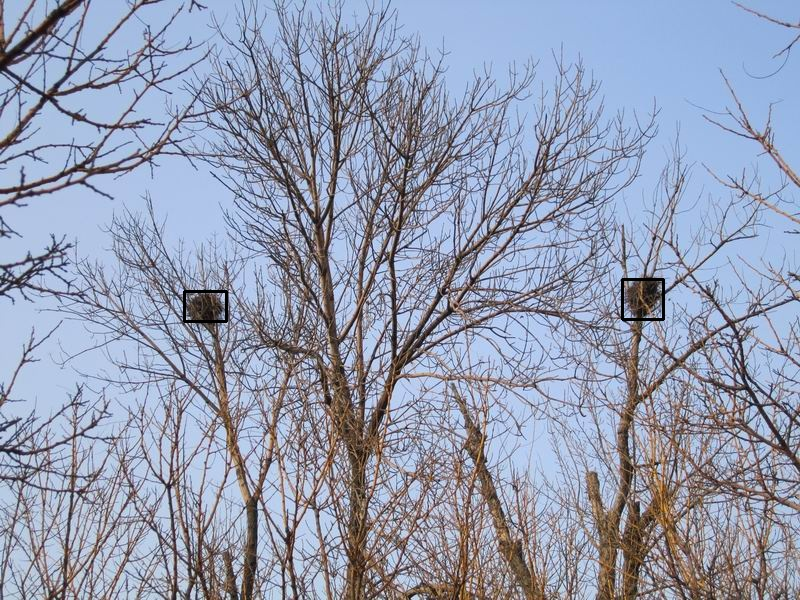bird-nest: (622, 279, 663, 319), (184, 291, 226, 321)
